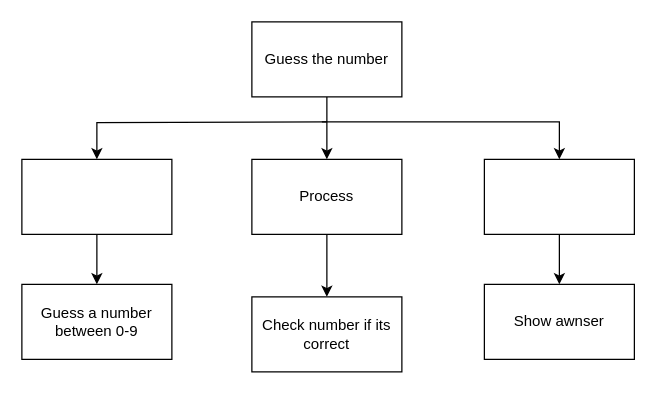
Image size: 656x394. Some labels were removed from this diagram. The centre of each missing label's shape, as x and y in pixels:
"Input" belongs at point 96,196.
"Output" belongs at point 558,196.
